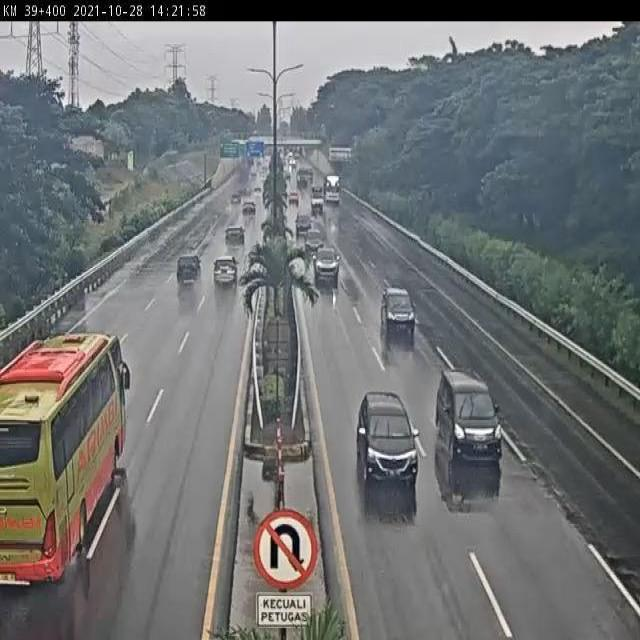big bus: (0, 325, 128, 588)
car: (437, 366, 506, 470), (357, 391, 420, 488), (380, 286, 417, 338), (173, 253, 204, 291), (211, 253, 242, 290), (315, 245, 341, 284), (223, 224, 247, 251), (301, 228, 323, 255)
